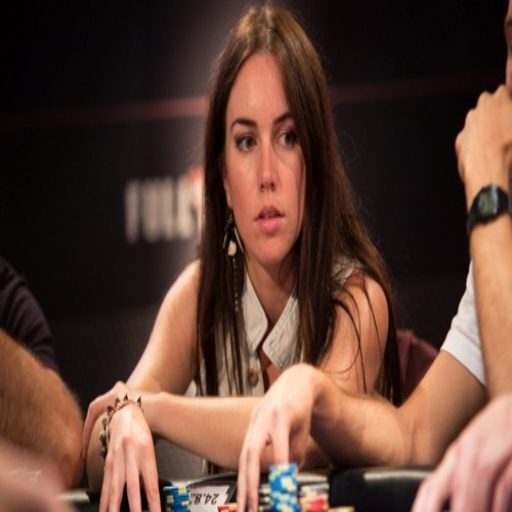hand: (234, 359, 314, 510), (411, 397, 510, 510), (79, 377, 155, 461), (454, 83, 510, 187)
